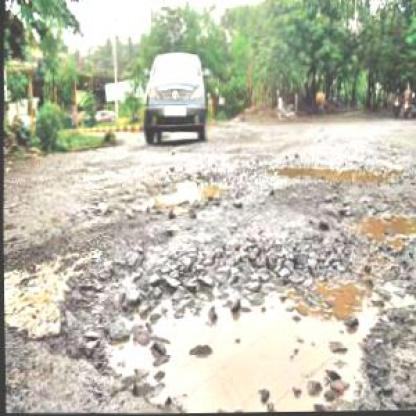pothole: (132, 165, 229, 218), (269, 160, 391, 192)
